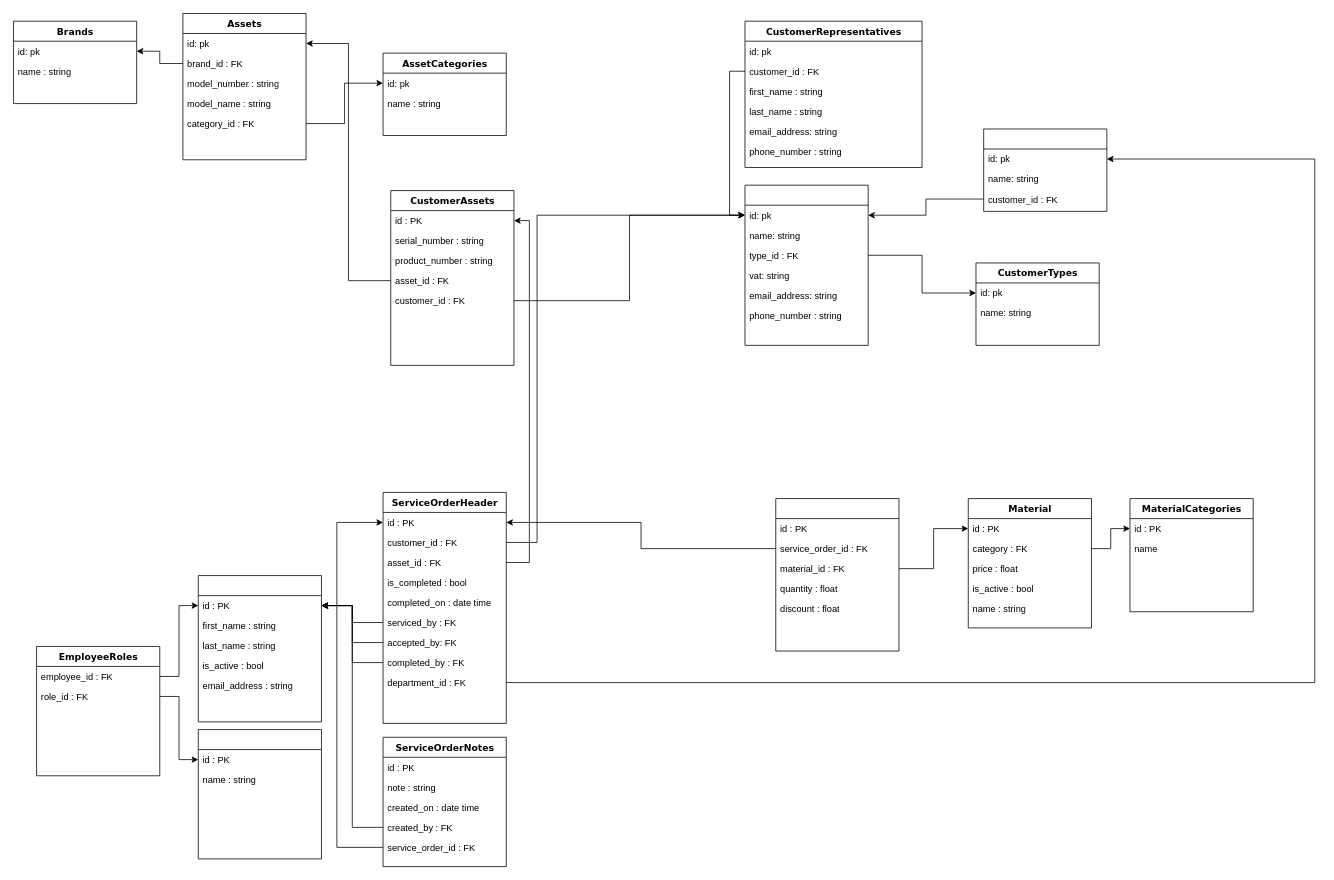
Some shapes in this 1334 by 880 pixel diagram are drawn without their labels. The shapes that lost their labels are listed below. From the top down, each one's box as (x1, y1, x2, y2) in pixels, then its label:
(983, 128, 1107, 211): CustomerDepartments
(744, 184, 868, 345): Customers
(775, 498, 899, 651): ServiceOrderDetail
(198, 575, 321, 722): Employees
(198, 729, 321, 859): Roles
